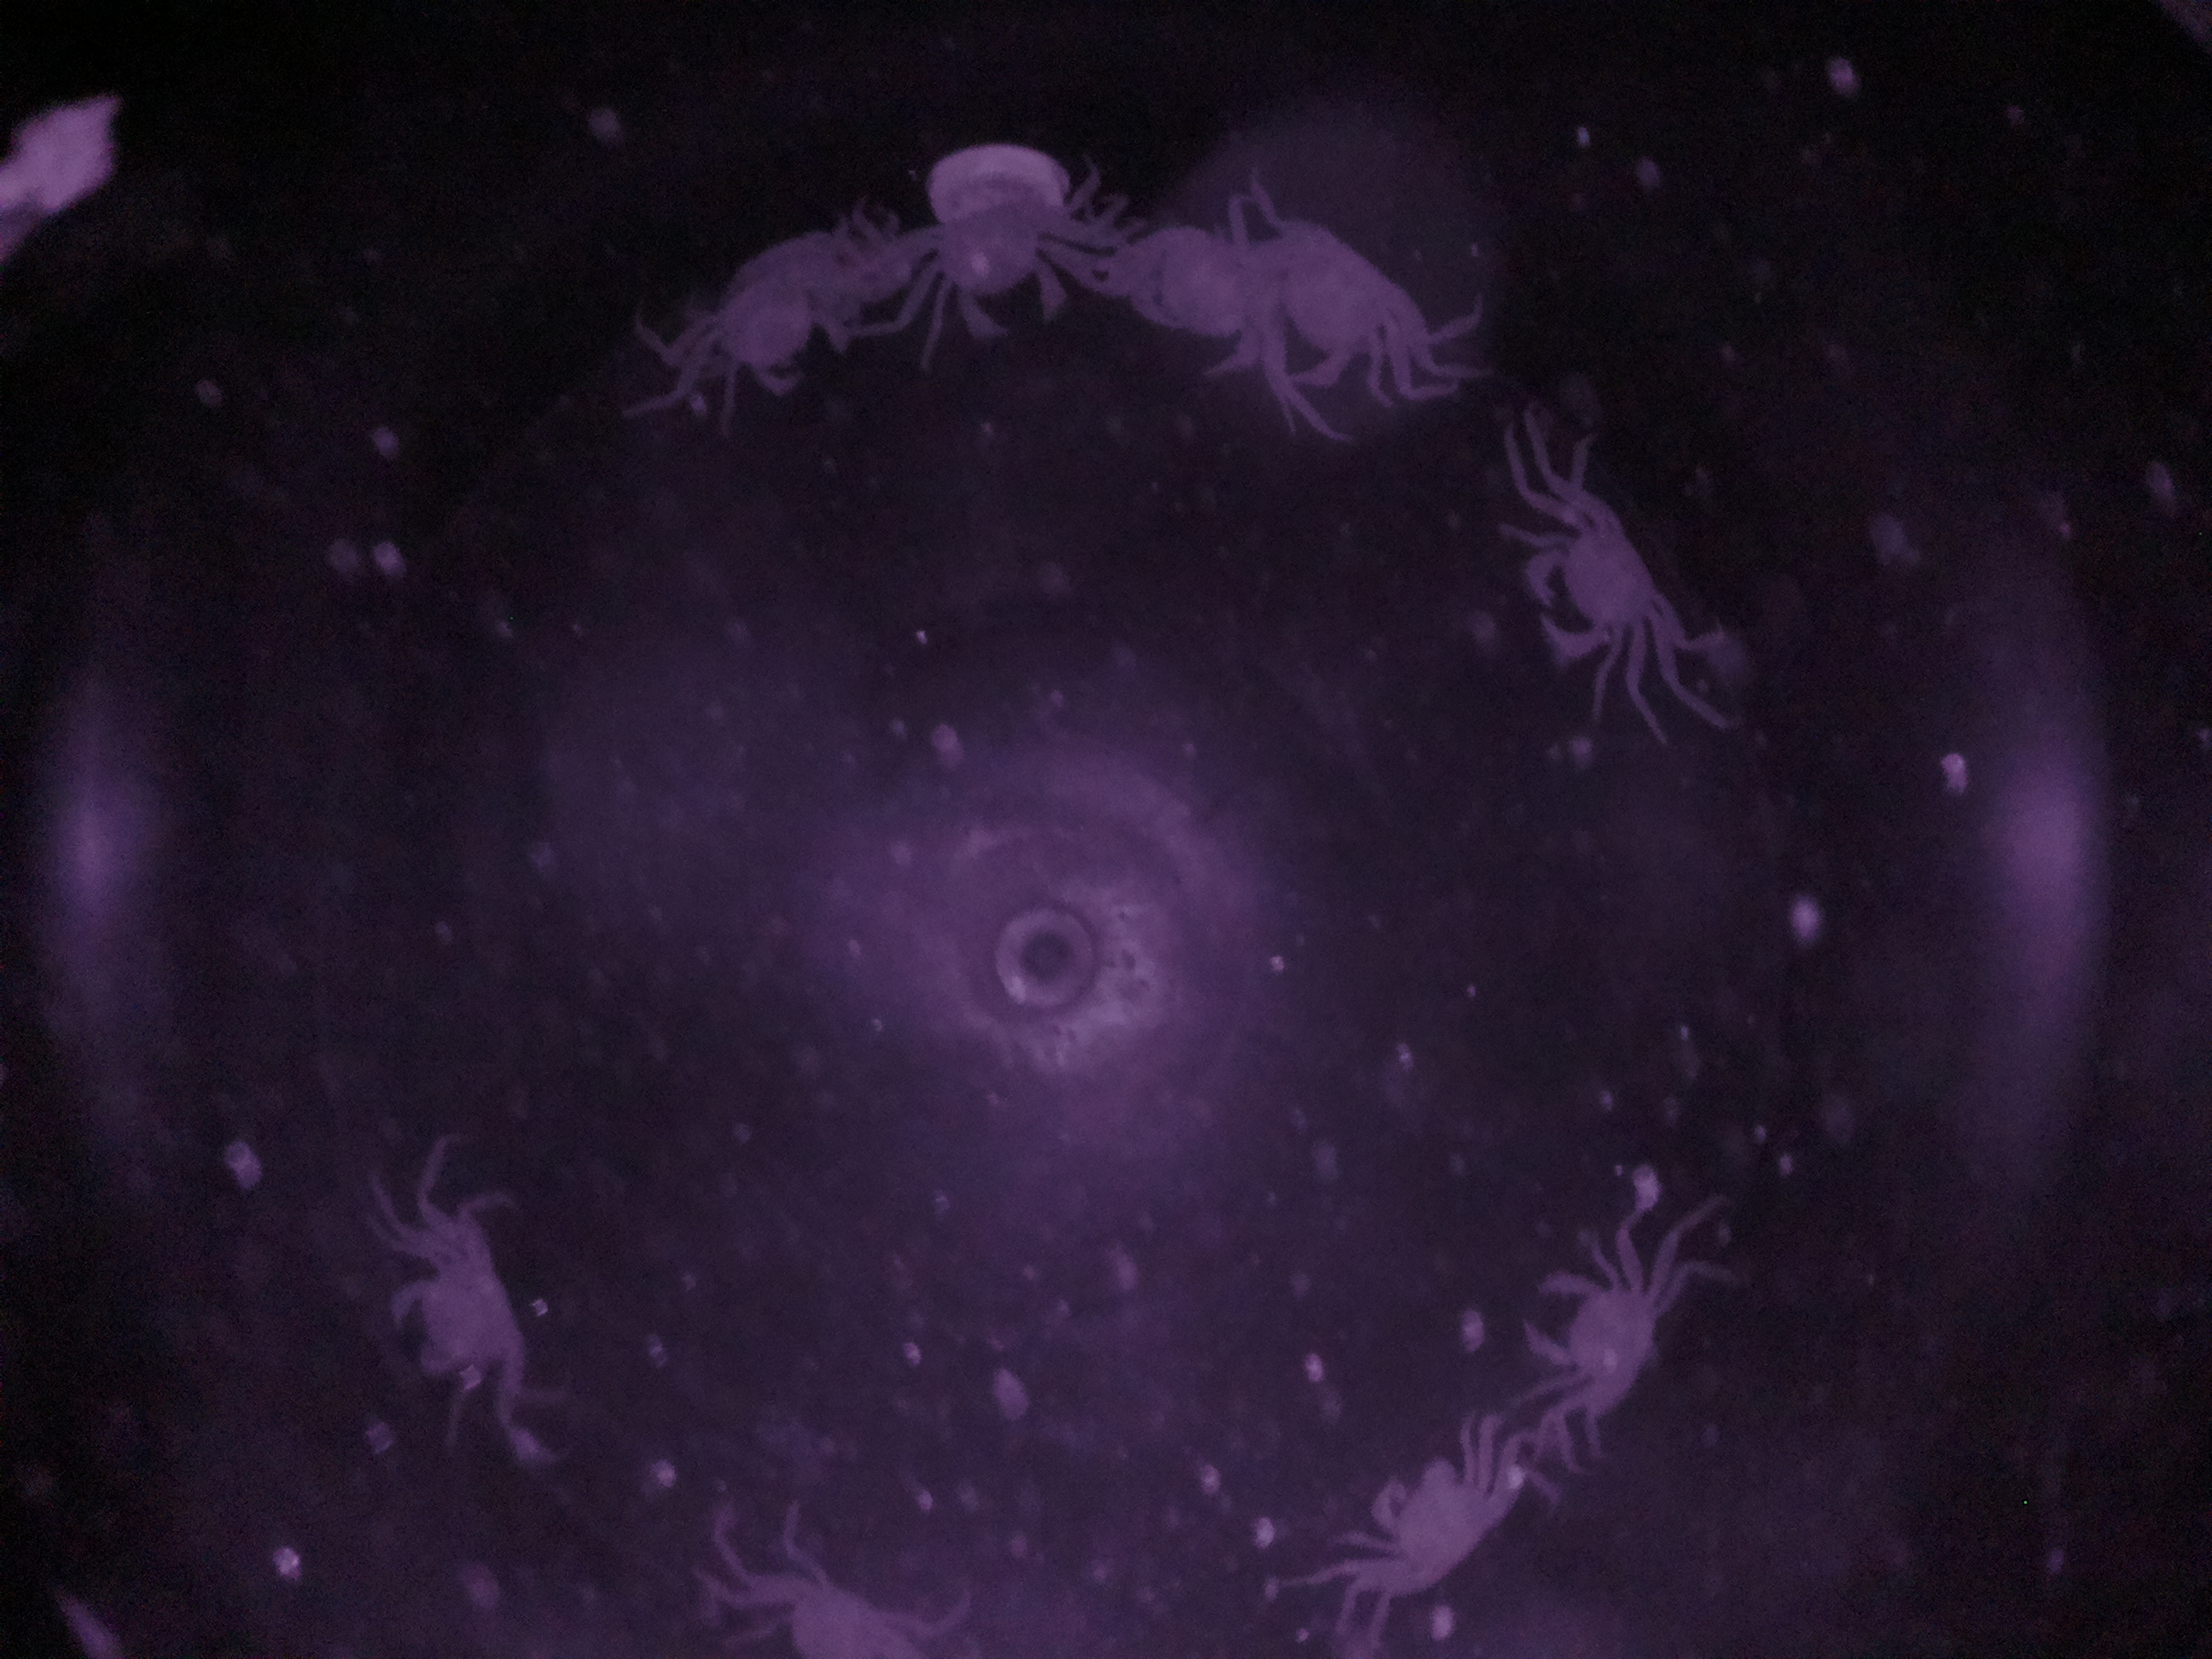Crab: (1503, 1223, 1696, 1453), (1514, 471, 1702, 699), (1343, 1422, 1517, 1614)
